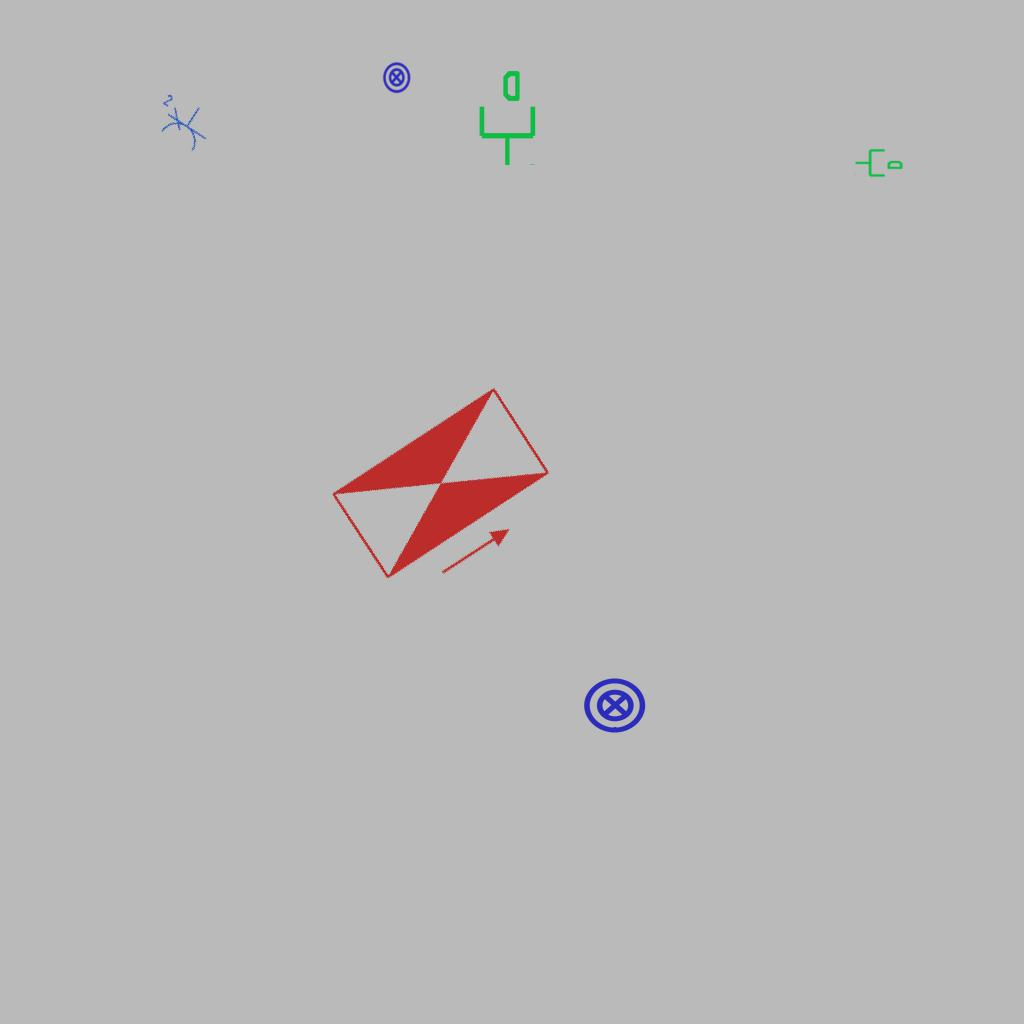Datenanschluss_einfach: (471, 68, 540, 168), (854, 145, 904, 179)
Fluchtwegpiktogramm: (322, 378, 577, 616)
Schukosteckdose_mehrfach: (144, 87, 220, 157)
Taster_beleuchtet: (582, 672, 648, 738), (380, 61, 413, 94)
